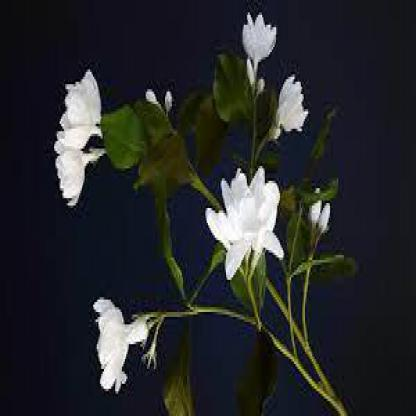Melati: (199, 150, 323, 331), (68, 266, 161, 407), (37, 53, 122, 187)
